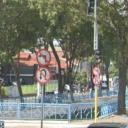NoVirarEsquerda: (36, 49, 51, 66), (92, 67, 100, 76)
NoVirarU: (35, 66, 51, 84), (93, 76, 101, 85)
